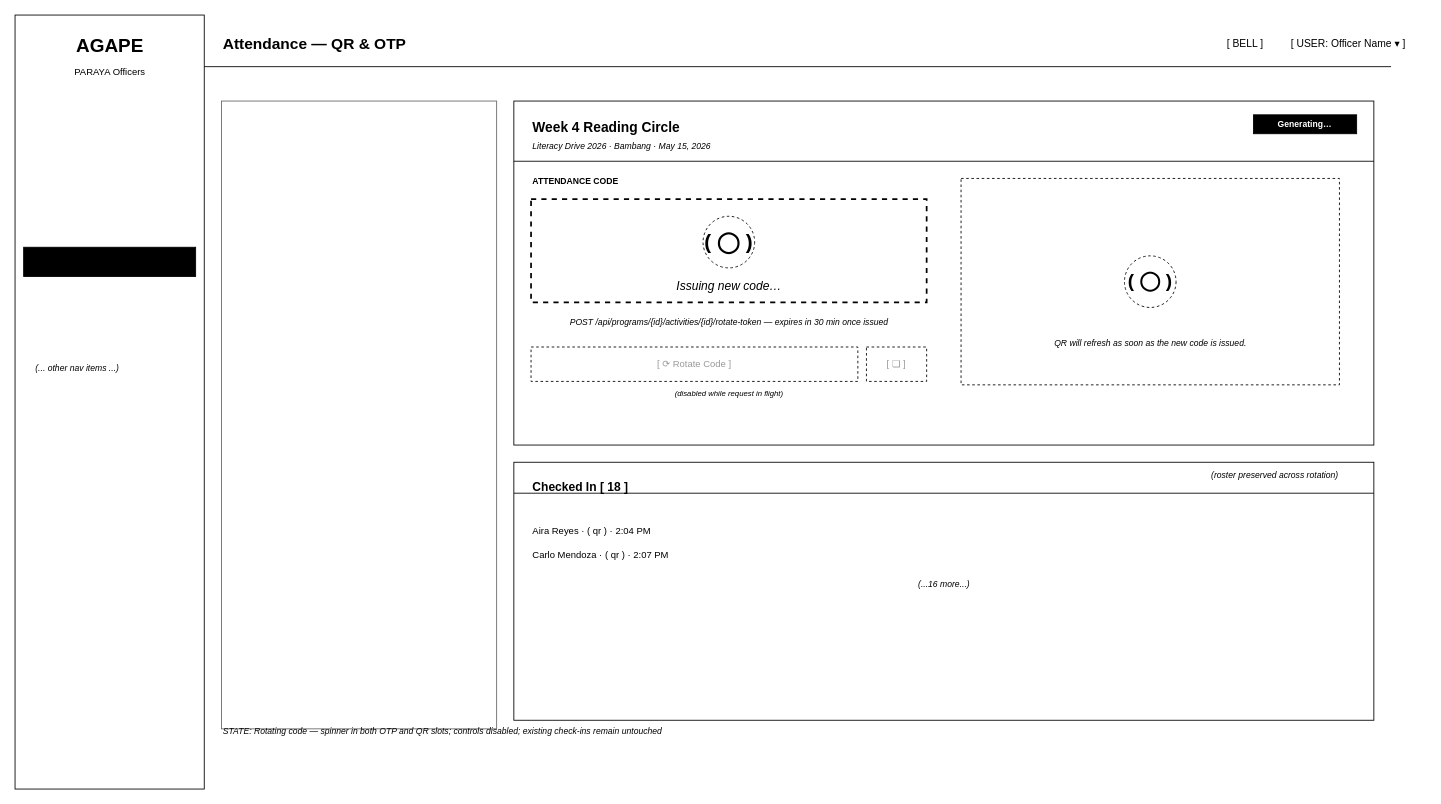
This 1441x804 diagram has some shape labels left out. The shapes that lost their labels are listed below. From the top down, each one's centre as x and y in pixels, then its label:
At pixel 109 261: "[x] Attendance".
At pixel 359 414: "(activity list — locked during rotation)".
